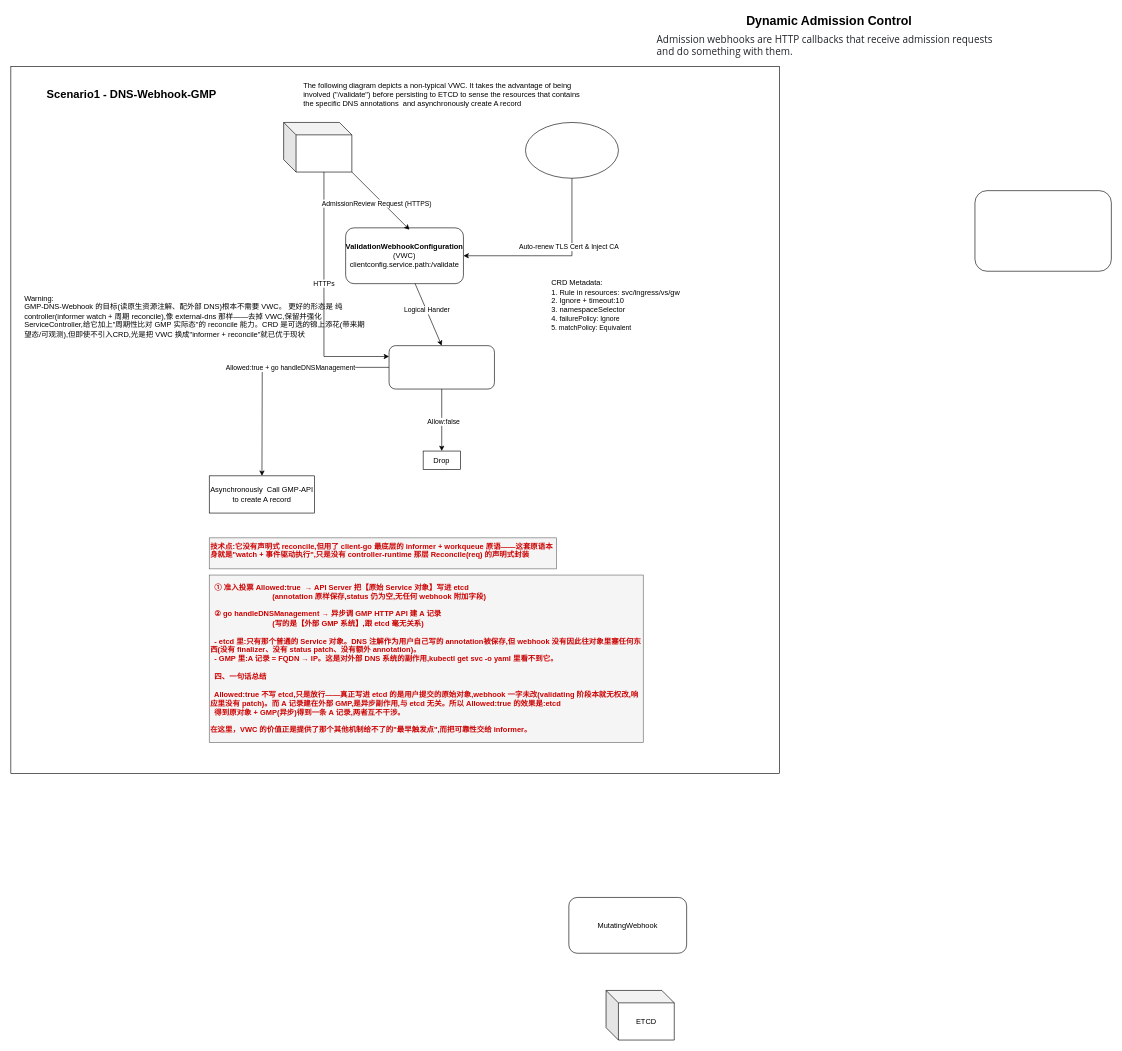
Image size: 1122x1051. Some labels were removed from this diagram. Here are the shapes that lost their labels. From the top down, the centre of each, then its label:
At pixel 317 147: "Kube-api Server".
At pixel 571 150: "Cert-Manager".
At pixel 1042 230: "VWC".
At pixel 441 367: "(Go) ServeMux :8443 /validate handler".
